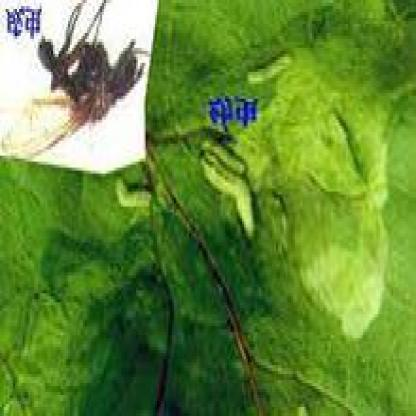whorl-maggot: (200, 128, 259, 240), (106, 172, 160, 218), (244, 45, 301, 87)
